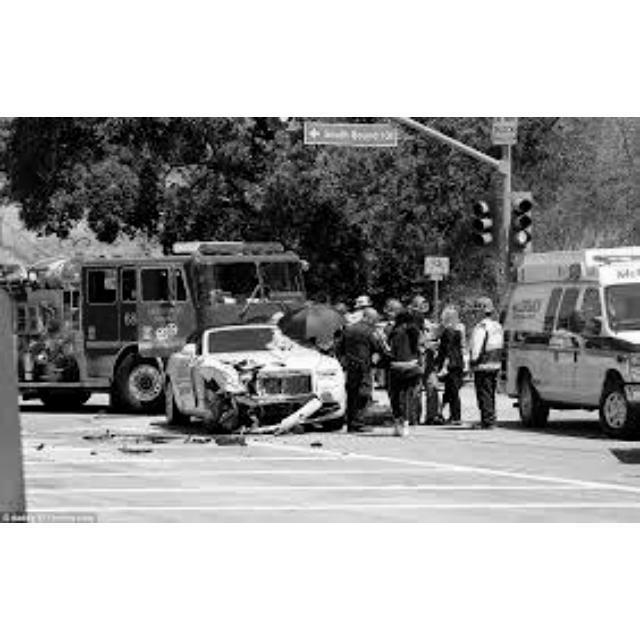fender-dent: (199, 359, 237, 399)
front-bumper-dent: (230, 392, 309, 426)
